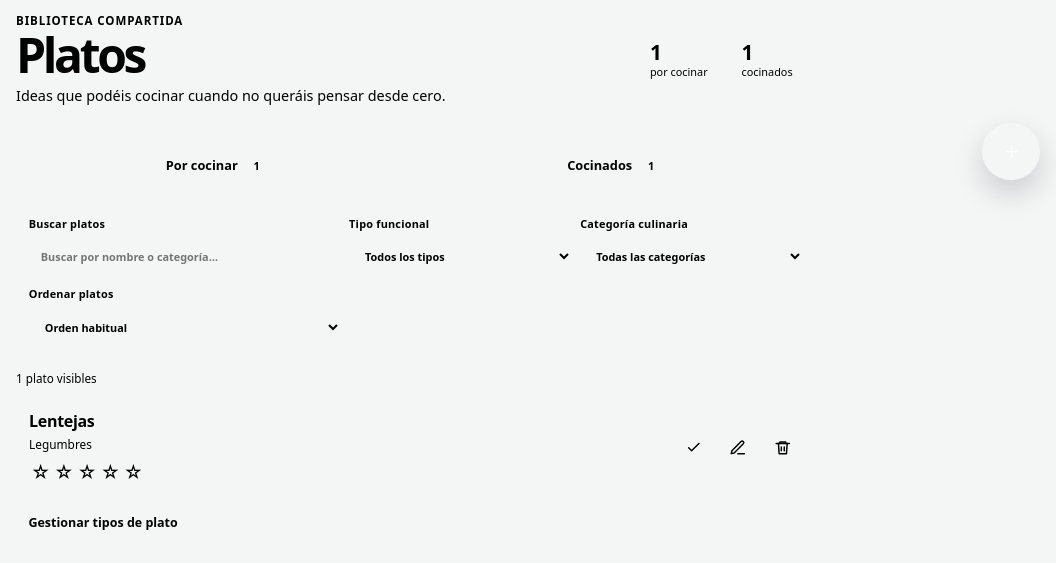
Test: MenuPlanningView › limpia los filtros y explica cuando no hay coincidencias
The width and height of the screenshot is (1056, 563).
Check: the text "Lentejas" is shown, box 29,410 -> 94,432
Type "pizza" into the search field labelled "Buscar platos" at [185, 257], box 29,235 -> 341,278
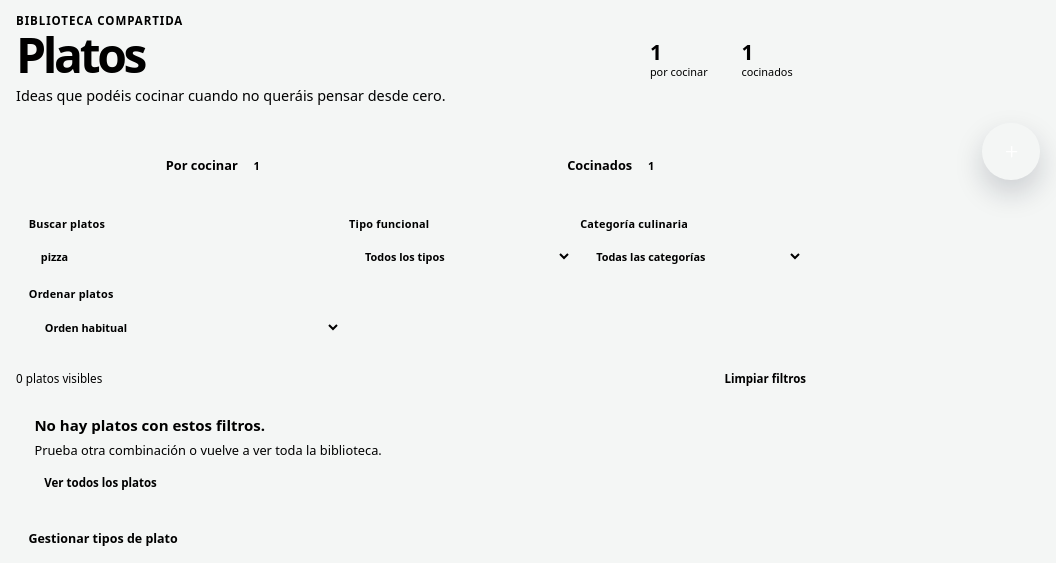
Check: the text "No hay platos con estos filtros." is shown, box 34,416 -> 265,436
Click the button "Limpiar filtros" at [765, 379], box 714,365 -> 816,392
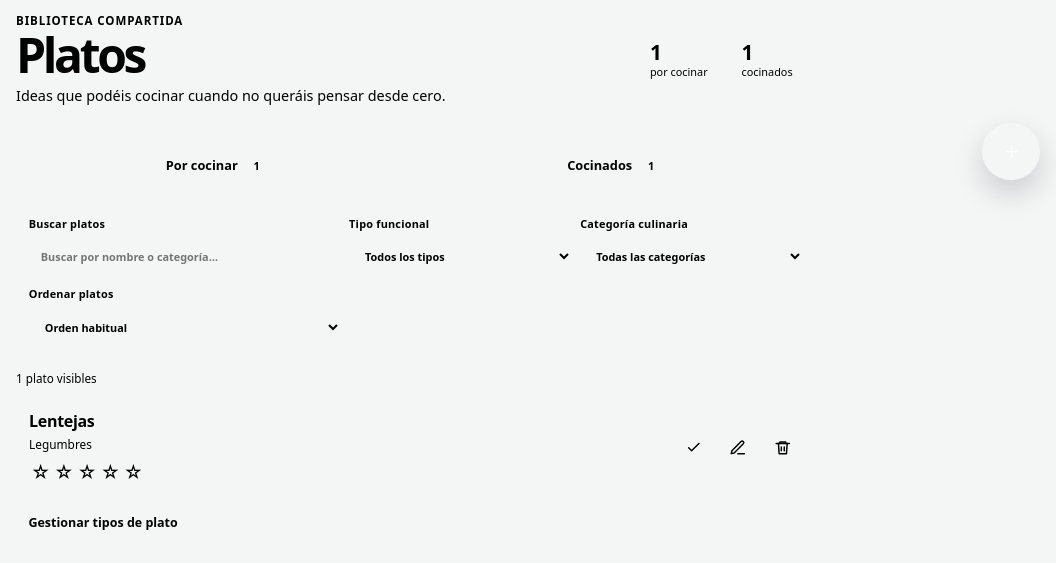
Check: the text "Lentejas" is shown, box 29,410 -> 94,432
Check: the text "No hay platos con estos filtros." is gone
